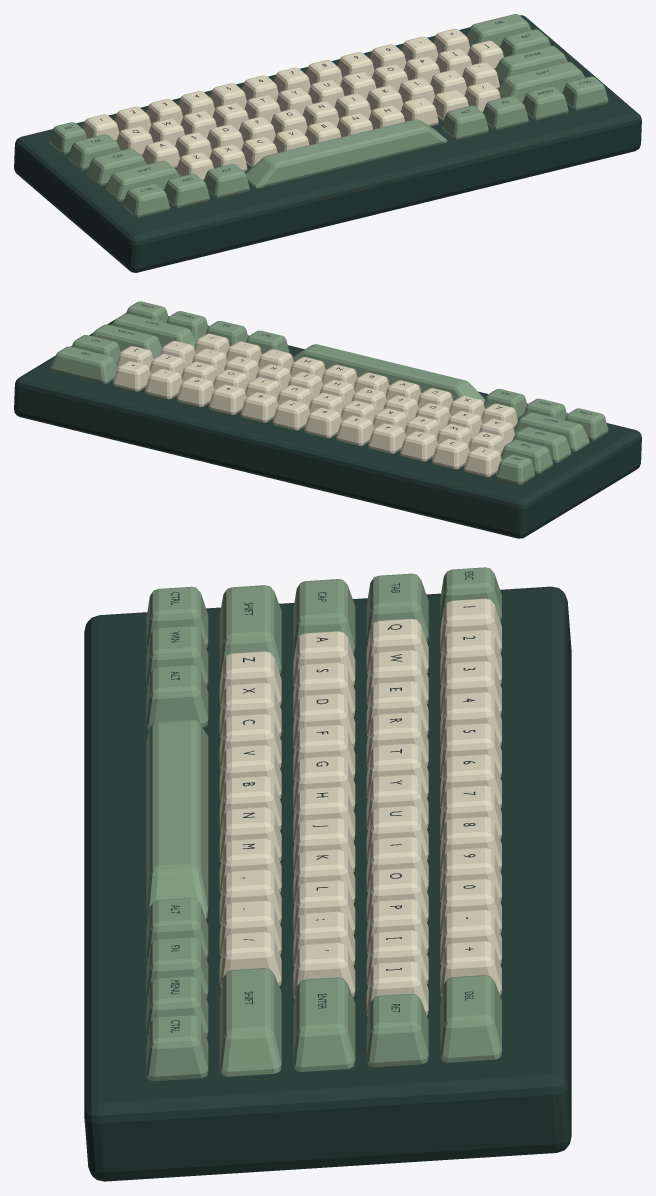
File: kb_moss.glb
3 renders of one model, top to bottom at view 1: azimuth 30°, elevation 25°; view 2: azimuth 150°, elevation 25°; view 3: azimuth 270°, elevation 25°, orthographic. The views are drawn at different scales.
Parts seen in each view (by area): view 1: kb_moss; view 2: kb_moss; view 3: kb_moss.
Boxes of the visible parts, left/top/right/bottom form: kb_moss: left=14, top=14, right=641, bottom=272; kb_moss: left=14, top=301, right=641, bottom=538; kb_moss: left=84, top=567, right=571, bottom=1181.
Bounding box in the file's own units: 0.305 × 0.0409 × 0.1257.
